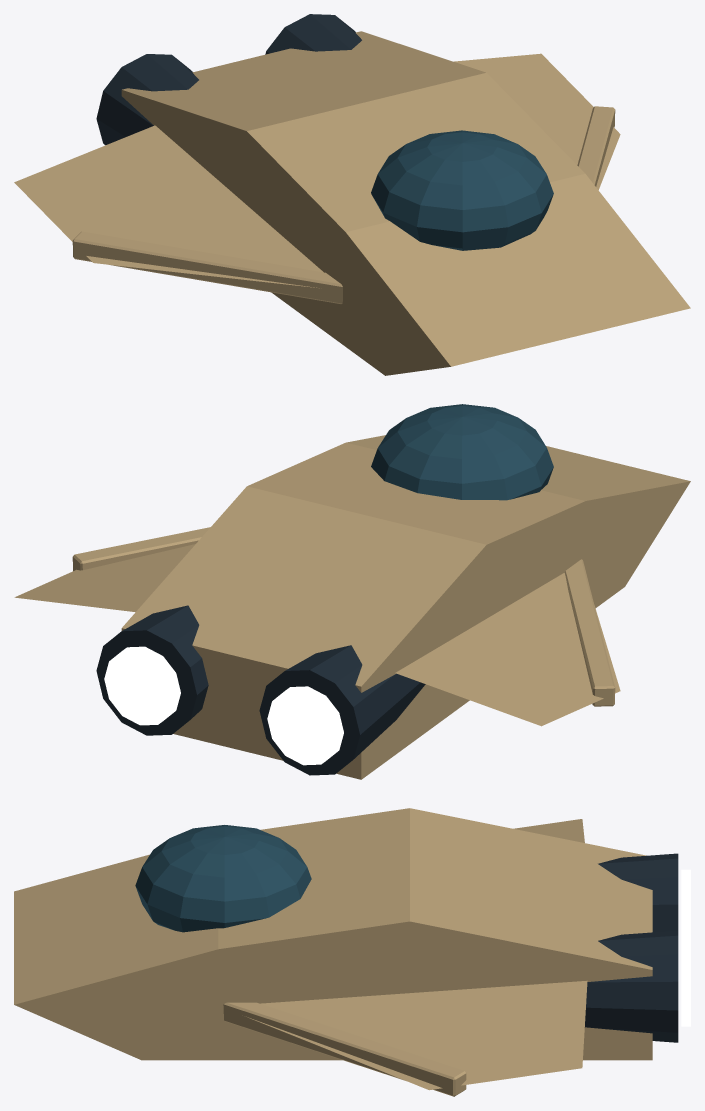
File: vehicles-shuttle.lod0.glb
3 renders of one model, top to bottom at view 1: azimuth 30°, elevation 25°; view 2: azimuth 150°, elevation 25°; view 3: azimuth 270°, elevation 25°, orthographic. The views are drawn at different scales.
Parts seen in each view (by area): view 1: vehicles-shuttle__body; view 2: vehicles-shuttle__body; view 3: vehicles-shuttle__body.
Boxes of the visible parts, box(x1,y1,x2,y2) form: vehicles-shuttle__body: box(14, 14, 690, 375); vehicles-shuttle__body: box(14, 404, 690, 779); vehicles-shuttle__body: box(14, 808, 690, 1096).
Bounding box in the file's own units: 4.74 × 1.44 × 5.3.
